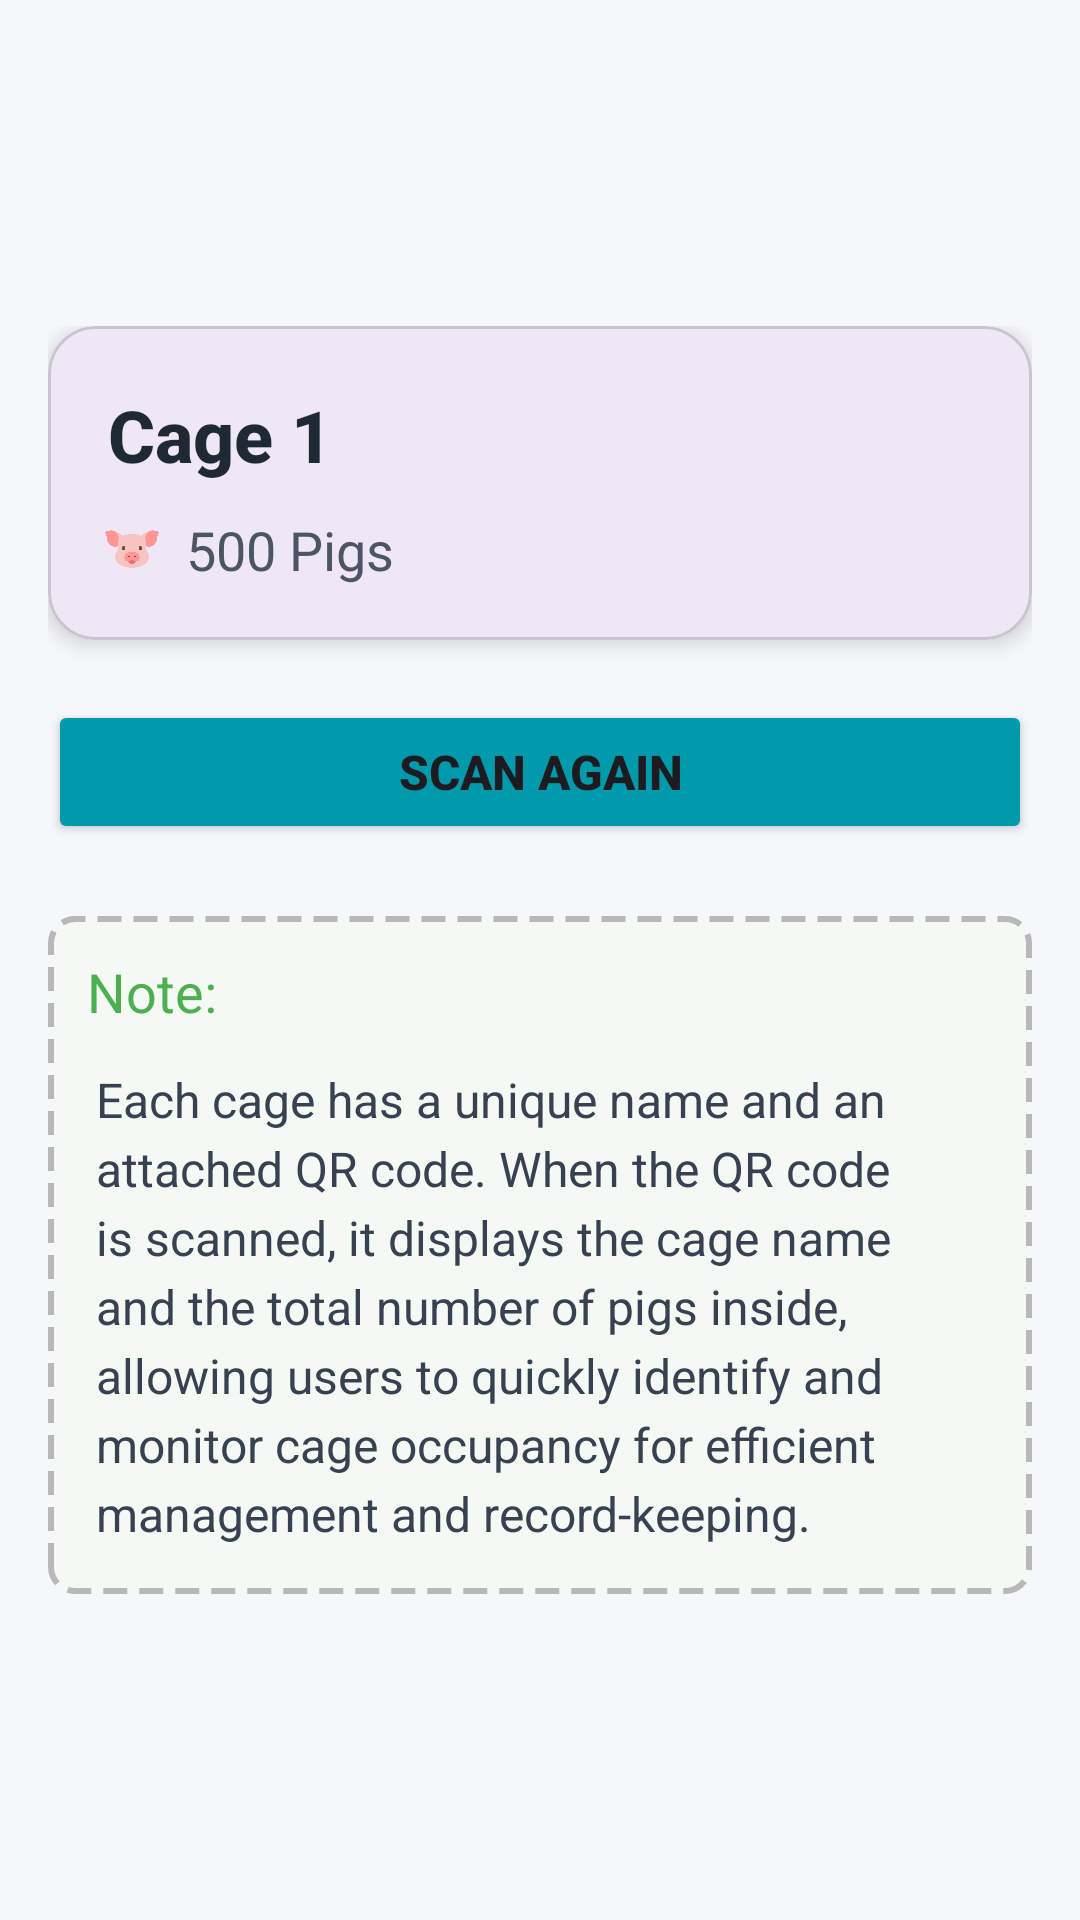

Icons on this 1080px x 1920px Android screen, each with the point to tap as (x=x, y=y):
pig: (x=132, y=549)
